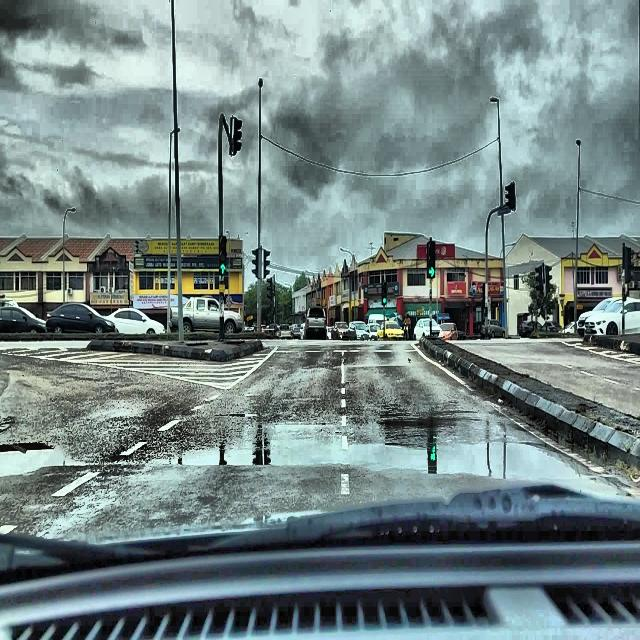green: (218, 236, 226, 273), (428, 242, 436, 278), (382, 282, 386, 304)
